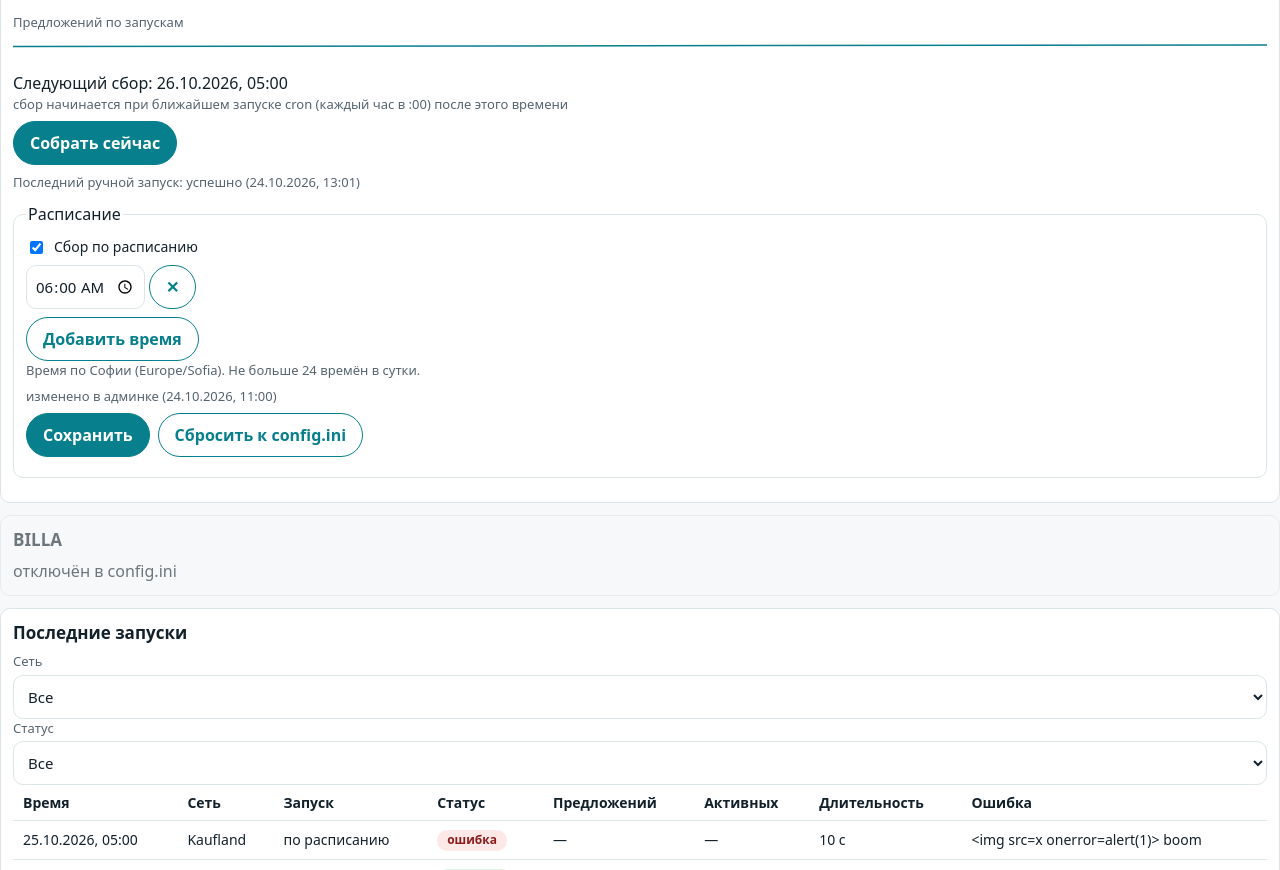
Test: Collection tab › on 409 shows the notice and reloads the data
(page scrolled)
Click the button "Сохранить".
click(88, 435)  # box left=26, top=413, right=150, bottom=457
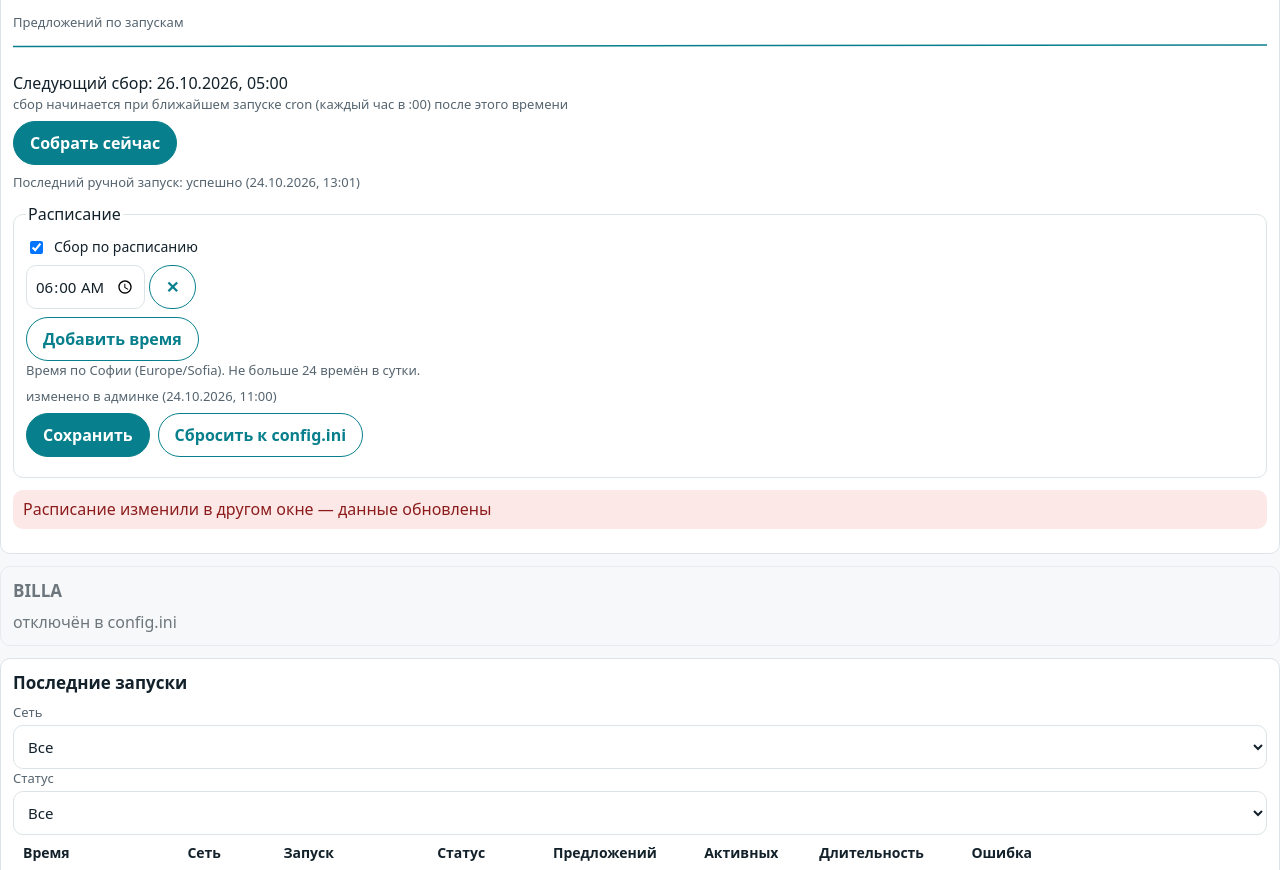
Check: the text "Расписание изменили в другом окне — данные обновлены" is shown, box left=13, top=490, right=1267, bottom=529
